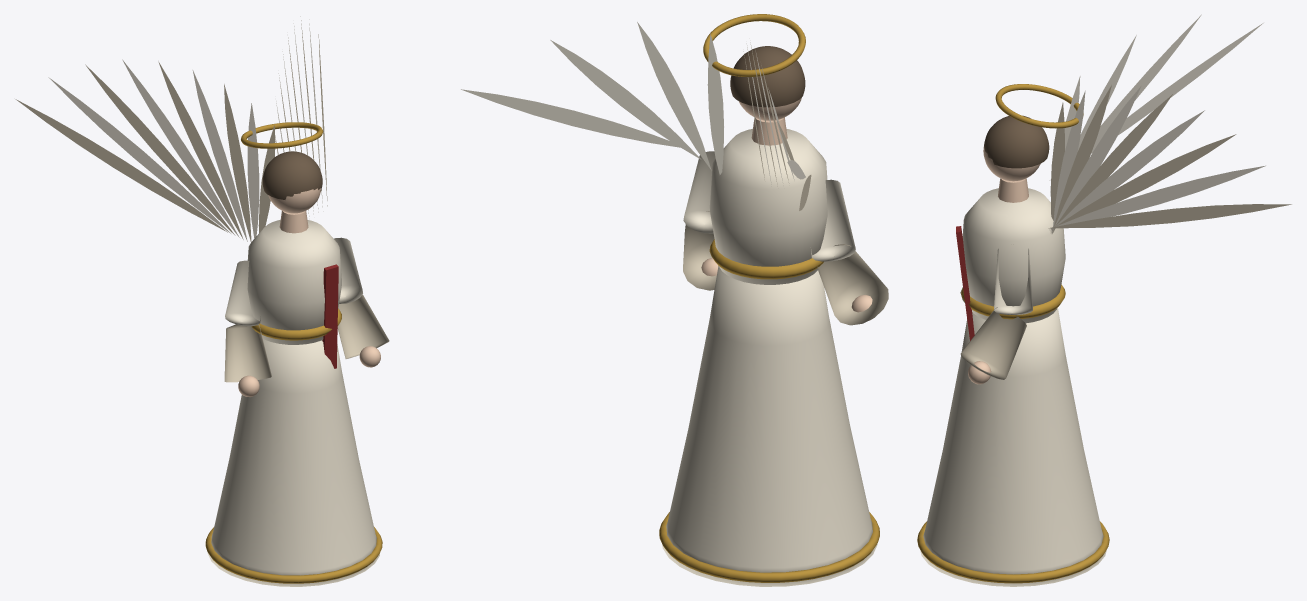
The model's file is standin-angel.glb.
The picture shows the model from 3 angles, left to right: view 1: azimuth 30°, elevation 25°; view 2: azimuth 150°, elevation 25°; view 3: azimuth 270°, elevation 25°; orthographic projection. The views are drawn at different scales.
Visible parts, largest first — view 1: robe, torso, cuff (×2), sleeve (×2), hair, feather.8, feather.7, robe.trim, feather.6, feather.5, feather.4, feather.3 (+8 smaller); view 2: robe, torso, cuff (×2), sleeve (×2), hair, robe.trim, feather.7, feather.5, feather.3, halo, sash, feather.1 (+2 smaller); view 3: robe, torso, feather.7 (×2), feather.5 (×2), hair, cuff, feather.8, robe.trim, feather.3 (×2), feather.6, feather.4, feather.2 (+8 smaller).
Boxes of the visible parts, left/top/right/bottom form: robe: left=207, top=339, right=379, bottom=586; torso: left=247, top=220, right=341, bottom=344; cuff (×2): left=224, top=294, right=389, bottom=382; sleeve (×2): left=225, top=237, right=362, bottom=326; hair: left=262, top=151, right=322, bottom=199; feather.8: left=15, top=99, right=227, bottom=232; feather.7: left=48, top=77, right=230, bottom=233; robe.trim: left=205, top=527, right=382, bottom=583; feather.6: left=85, top=64, right=235, bottom=235; feather.5: left=122, top=59, right=239, bottom=237; feather.4: left=158, top=61, right=243, bottom=239; feather.3: left=192, top=70, right=247, bottom=241; robe: left=662, top=266, right=877, bottom=586; torso: left=709, top=128, right=827, bottom=284; cuff (×2): left=683, top=211, right=888, bottom=325; sleeve (×2): left=683, top=151, right=855, bottom=261; hair: left=730, top=46, right=805, bottom=107; robe.trim: left=659, top=512, right=879, bottom=582; feather.7: left=461, top=89, right=679, bottom=147; feather.5: left=550, top=40, right=701, bottom=159; feather.3: left=637, top=22, right=711, bottom=170; halo: left=703, top=14, right=805, bottom=76; sash: left=709, top=239, right=823, bottom=279; feather.1: left=707, top=33, right=723, bottom=174; robe: left=920, top=307, right=1106, bottom=586; torso: left=962, top=188, right=1065, bottom=323; feather.7 (×2): left=1049, top=23, right=1265, bottom=229; feather.5 (×2): left=1050, top=14, right=1204, bottom=231; hair: left=984, top=115, right=1049, bottom=168; cuff: left=960, top=307, right=1026, bottom=379; feather.8: left=1048, top=204, right=1291, bottom=228; robe.trim: left=917, top=521, right=1109, bottom=583; feather.3 (×2): left=1051, top=35, right=1141, bottom=233; feather.6: left=1050, top=134, right=1236, bottom=230; feather.4: left=1051, top=94, right=1172, bottom=232; feather.2: left=1052, top=85, right=1111, bottom=233.
Bounding box in the file's own units: 1.46 × 2.08 × 1.44.
